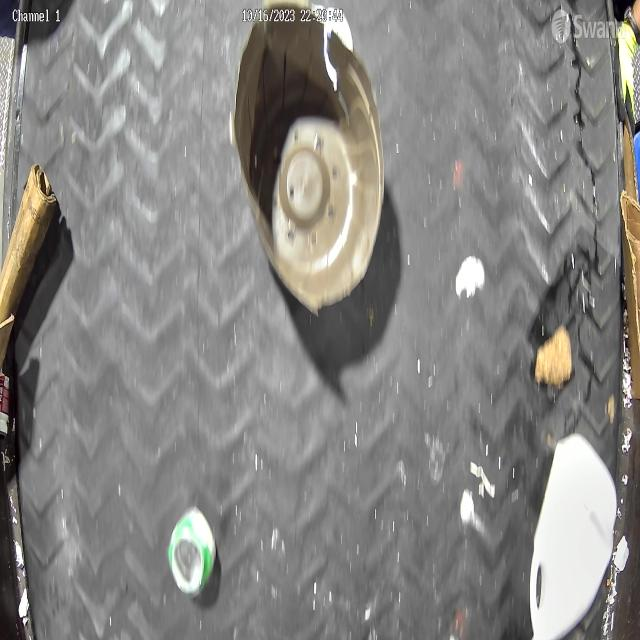can: (167, 504, 219, 602)
milk_jug: (530, 436, 619, 638)
